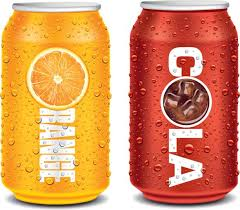can: (0, 3, 123, 210), (126, 1, 236, 209)
